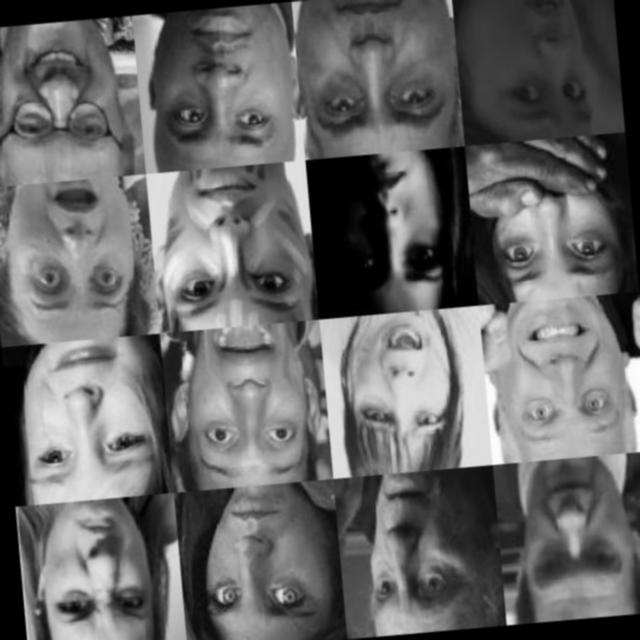angry: (35, 499, 152, 640)
fear: (485, 290, 640, 461), (0, 173, 152, 346), (482, 130, 628, 302), (172, 319, 312, 486), (190, 487, 326, 640), (339, 305, 462, 474), (359, 472, 478, 635), (472, 0, 597, 130)
happy: (0, 15, 143, 179)
neutral: (289, 0, 461, 155), (153, 158, 305, 331), (509, 454, 640, 623), (156, 2, 290, 162)
sad: (17, 334, 166, 501), (330, 151, 457, 313)
